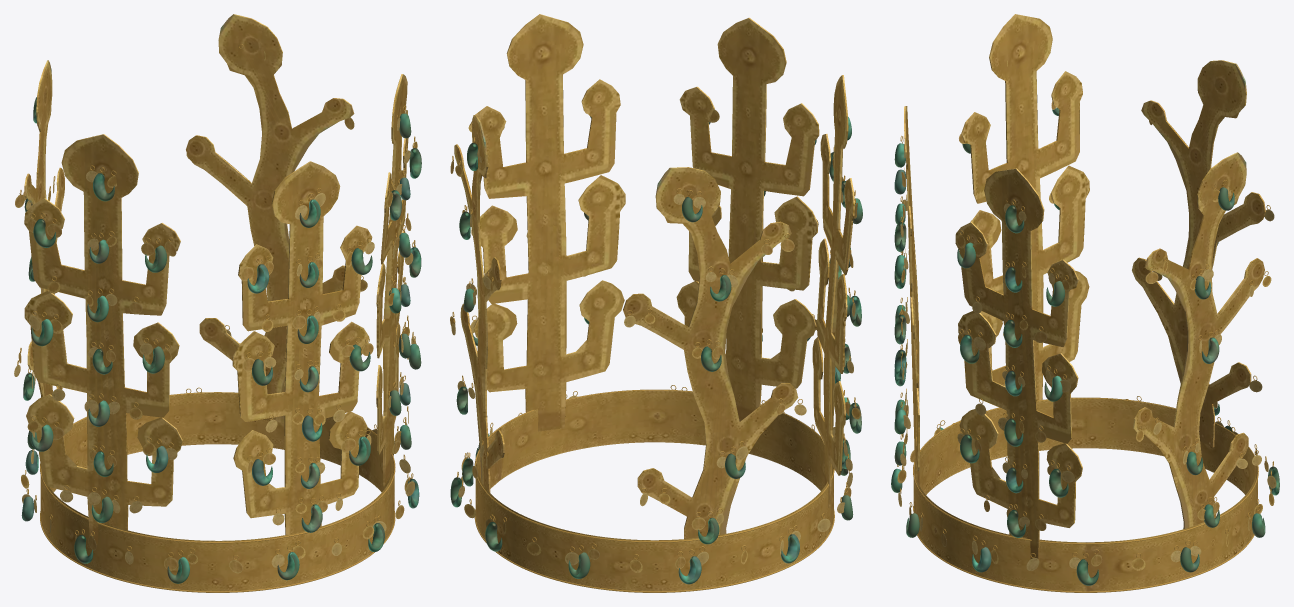
File: crown.glb
3 renders of one model, left to right at view 1: azimuth 30°, elevation 25°; view 2: azimuth 150°, elevation 25°; view 3: azimuth 270°, elevation 25°, orthographic. The views are drawn at different scales.
Parts seen in each view (by area): view 1: 01_Circlet_Atlas_Strip, 01_Circlet_Jade, 01_Circlet_Gold_Drops, 01_Circlet_Rim; view 2: 01_Circlet_Atlas_Strip, 01_Circlet_Rim, 01_Circlet_Jade, 01_Circlet_Gold_Drops; view 3: 01_Circlet_Atlas_Strip, 01_Circlet_Jade, 01_Circlet_Rim, 01_Circlet_Gold_Drops.
Part boxes in pixels (x1,y1,x2,y2): 01_Circlet_Atlas_Strip: [24, 14, 408, 592]; 01_Circlet_Jade: [21, 97, 421, 583]; 01_Circlet_Gold_Drops: [14, 51, 417, 573]; 01_Circlet_Rim: [17, 14, 415, 592]; 01_Circlet_Atlas_Strip: [454, 14, 853, 592]; 01_Circlet_Rim: [452, 14, 856, 592]; 01_Circlet_Jade: [450, 116, 862, 584]; 01_Circlet_Gold_Drops: [450, 105, 860, 572]; 01_Circlet_Atlas_Strip: [904, 14, 1264, 592]; 01_Circlet_Jade: [891, 108, 1279, 585]; 01_Circlet_Rim: [897, 14, 1273, 592]; 01_Circlet_Gold_Drops: [897, 60, 1276, 570].
Size of the model in its own units: 0.2536 by 0.2787 by 0.2258.
Materials: 4 (4 with a texture image).
